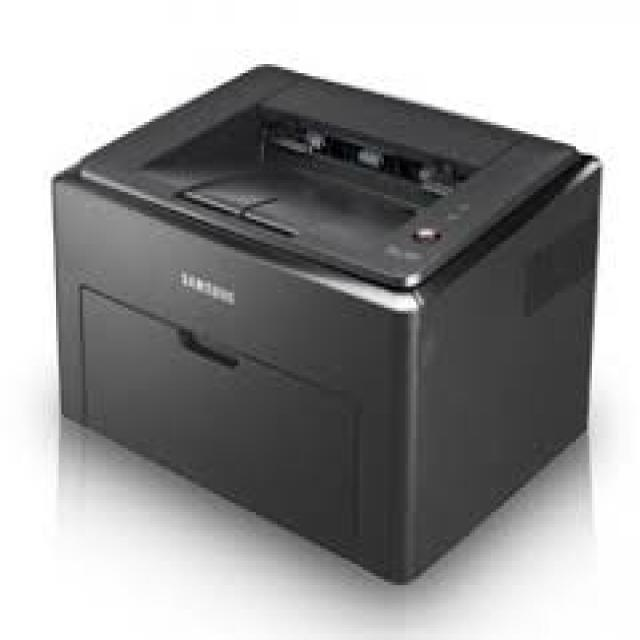printer: (46, 60, 604, 588)
